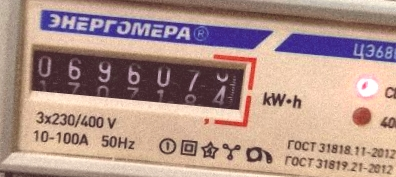0: (34, 52, 53, 78), (153, 62, 171, 88)
4: (209, 82, 227, 107)
6: (123, 60, 143, 85), (64, 55, 83, 81)
7: (183, 66, 200, 94)
9: (94, 58, 112, 83)
screen: (12, 29, 260, 125)
